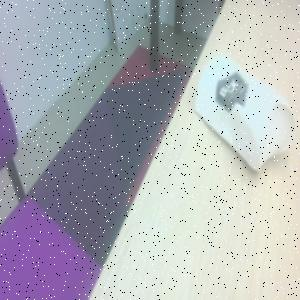Cup: (195, 55, 297, 174)
